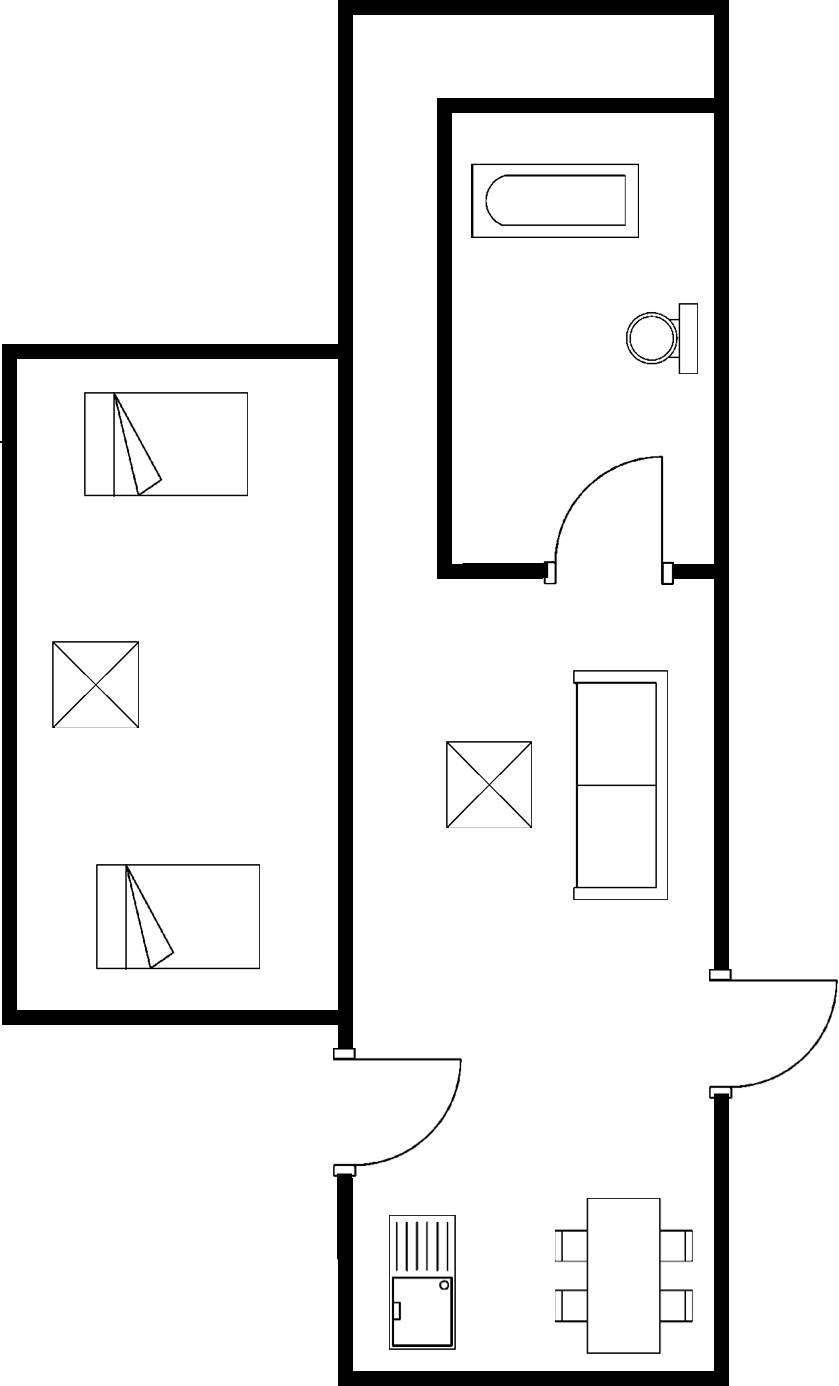bed: (87, 856, 272, 977), (79, 384, 255, 507)
coffee_table: (45, 634, 150, 737), (437, 731, 538, 838)
dining_table: (542, 1190, 700, 1359)
large_sink: (614, 294, 706, 386)
large_sofa: (560, 663, 676, 915)
sink: (378, 1207, 472, 1360)
tub: (465, 154, 646, 245)
